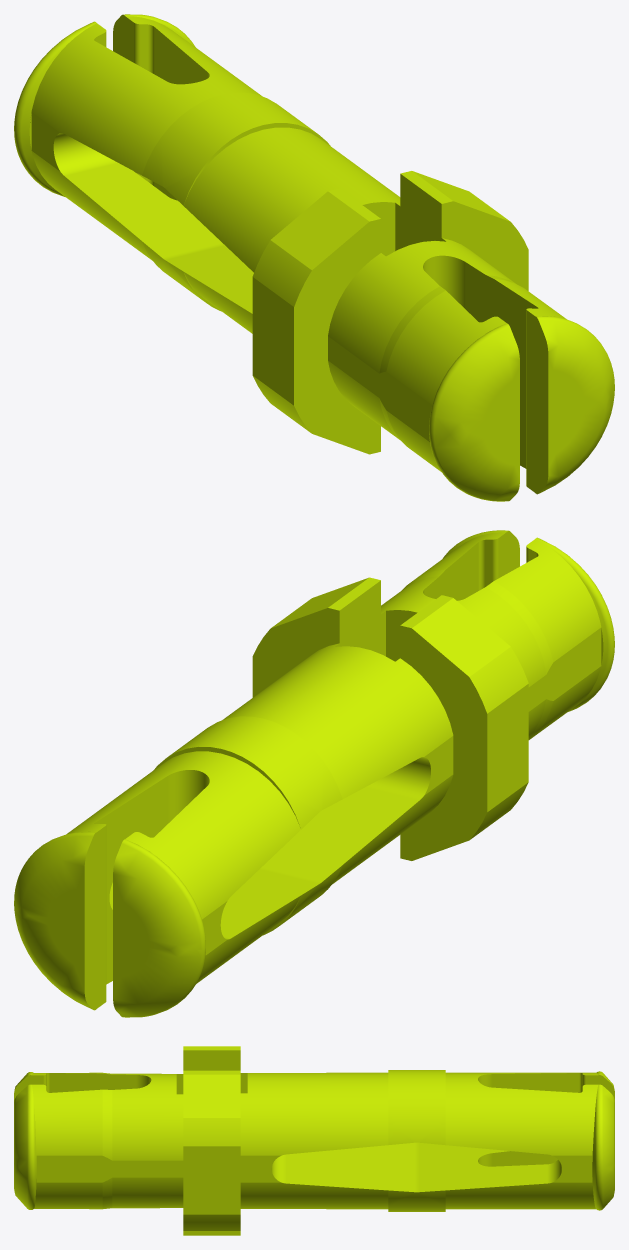
3 renders of one model, top to bottom at view 1: azimuth 30°, elevation 25°; view 2: azimuth 150°, elevation 25°; view 3: azimuth 270°, elevation 25°, orthographic. The views are drawn at different scales.
Parts seen in each view (by area): view 1: main_97d700; view 2: main_97d700; view 3: main_97d700.
Part boxes in pixels (box(x1,y1,x2,y2)): main_97d700: box(14, 14, 614, 501); main_97d700: box(14, 530, 614, 1017); main_97d700: box(14, 1046, 614, 1235).
Size of the model in its own units: 5.8 by 5.5 by 18.63.
